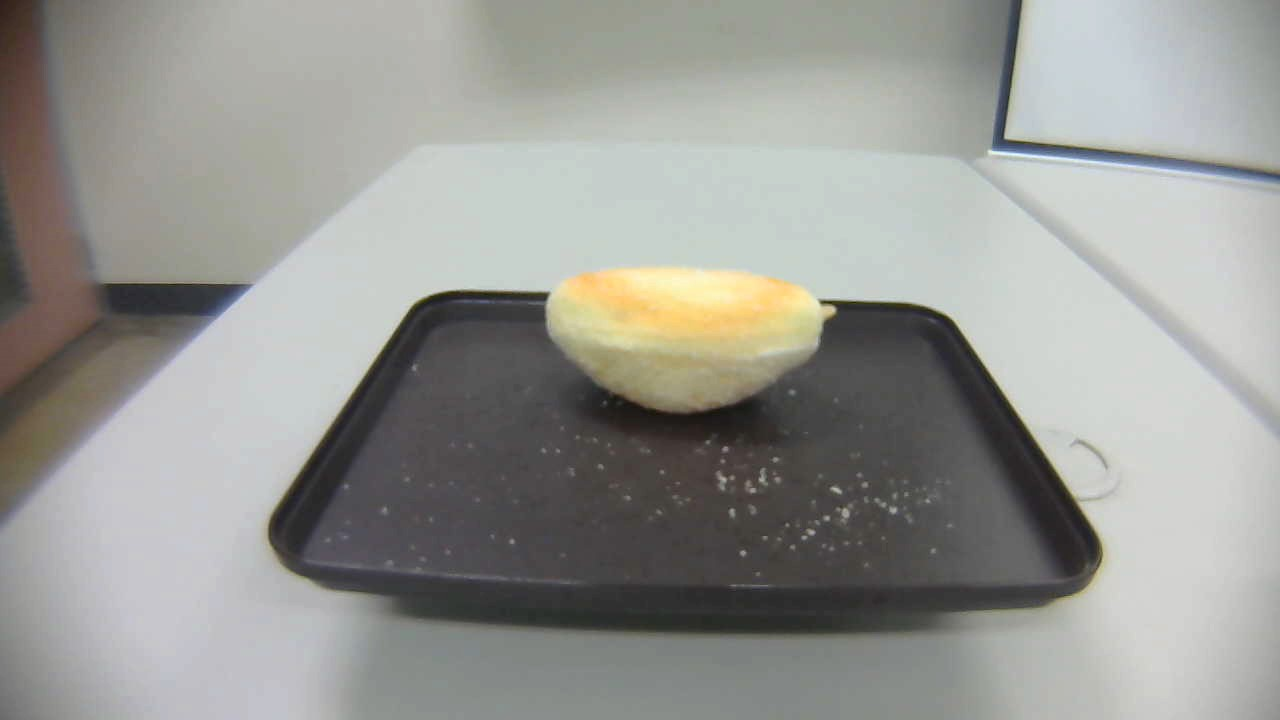coconut: (543, 263, 840, 416)
